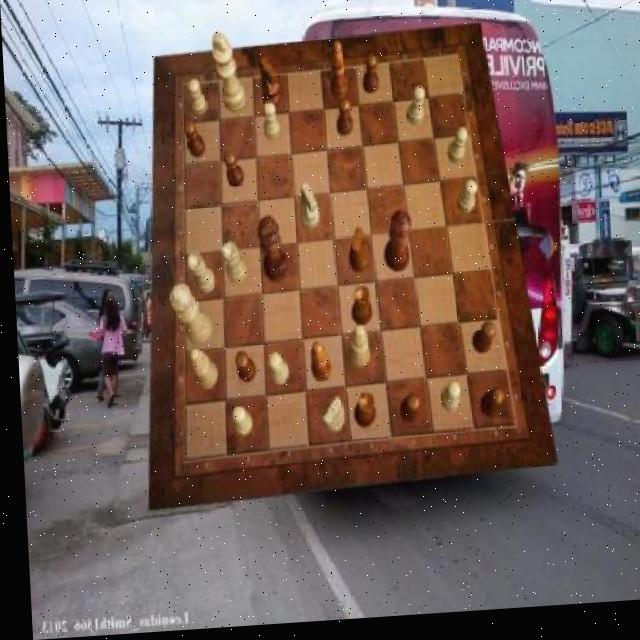bishop: (326, 45, 346, 105), (306, 345, 327, 388)
black-bishop: (254, 220, 286, 287)
black-king: (260, 59, 281, 113), (345, 232, 366, 279)
black-knight: (467, 329, 493, 363), (182, 122, 204, 160), (475, 395, 500, 427), (221, 154, 242, 191), (230, 354, 252, 387), (359, 60, 377, 100), (333, 102, 351, 141), (395, 399, 417, 428)
black-pawn: (379, 216, 411, 279)
black-queen: (347, 291, 370, 330), (348, 397, 372, 434)
black-rook: (186, 350, 215, 393), (343, 329, 365, 373)
white-bishop: (210, 34, 245, 117)
white-king: (297, 187, 318, 236), (316, 402, 340, 439)
white-knight: (404, 92, 425, 131), (187, 80, 206, 119), (264, 355, 285, 390), (453, 186, 474, 221), (445, 135, 466, 170), (261, 105, 278, 145), (435, 386, 456, 418), (226, 408, 247, 440)
white-pawn: (165, 284, 210, 348)
white-queen: (184, 254, 212, 297), (219, 243, 245, 287)
